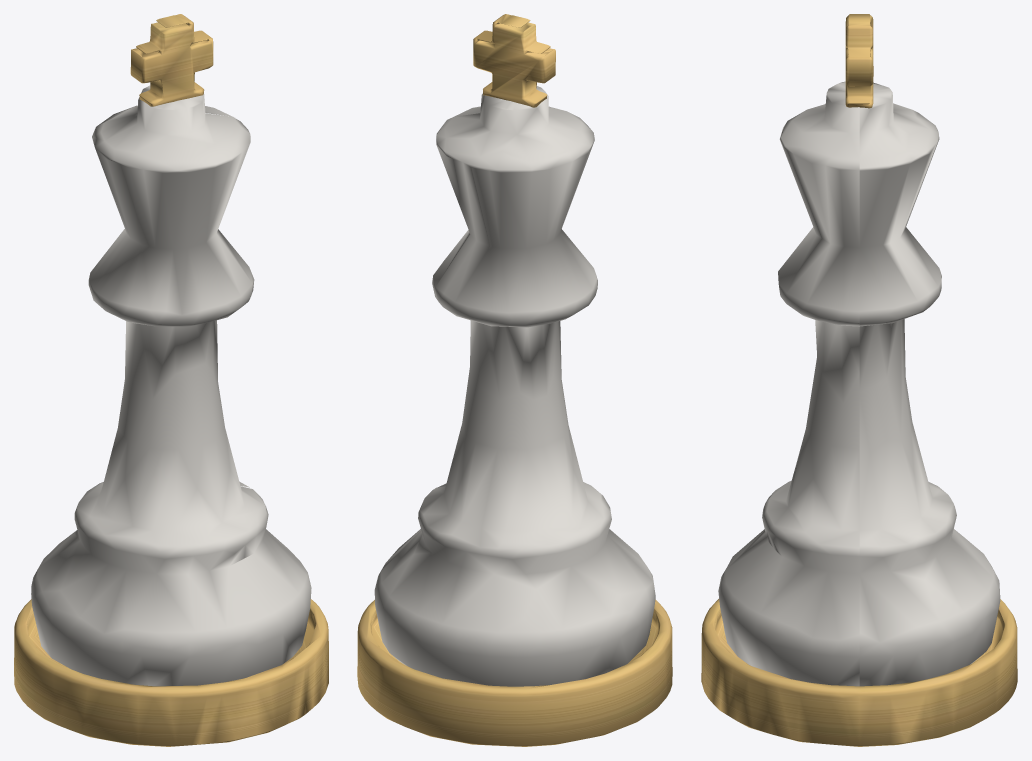
The model's file is aurum_king_white.glb.
The picture shows the model from 3 angles, left to right: view 1: azimuth 30°, elevation 25°; view 2: azimuth 150°, elevation 25°; view 3: azimuth 270°, elevation 25°; orthographic projection.
Parts seen in each view (by area): view 1: Aurum Ivoire – King; view 2: Aurum Ivoire – King; view 3: Aurum Ivoire – King.
Part boxes in pixels (x1=…): Aurum Ivoire – King: x1=14, y1=14, x2=328, y2=746; Aurum Ivoire – King: x1=357, y1=14, x2=672, y2=746; Aurum Ivoire – King: x1=701, y1=14, x2=1017, y2=746.
Bounding box in the file's own units: 0.0433 × 0.1 × 0.0432.
Materials: 2 (1 with a texture image).
